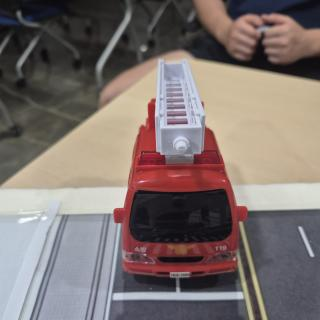Fire_truck: (114, 60, 247, 278)
